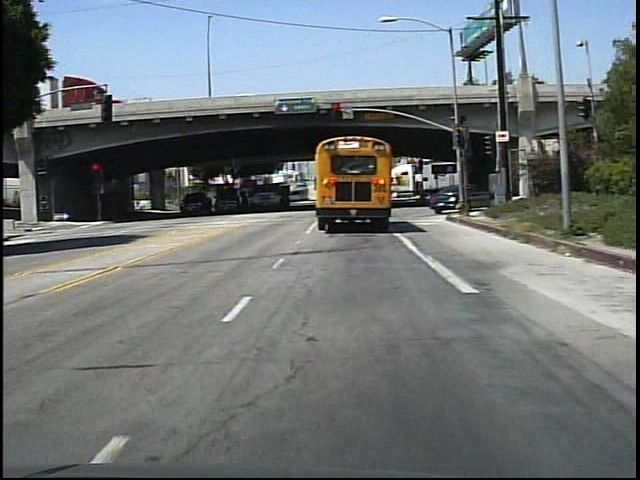car: (427, 182, 497, 211), (180, 191, 213, 215), (214, 185, 239, 214)
strada: (18, 230, 625, 478)
